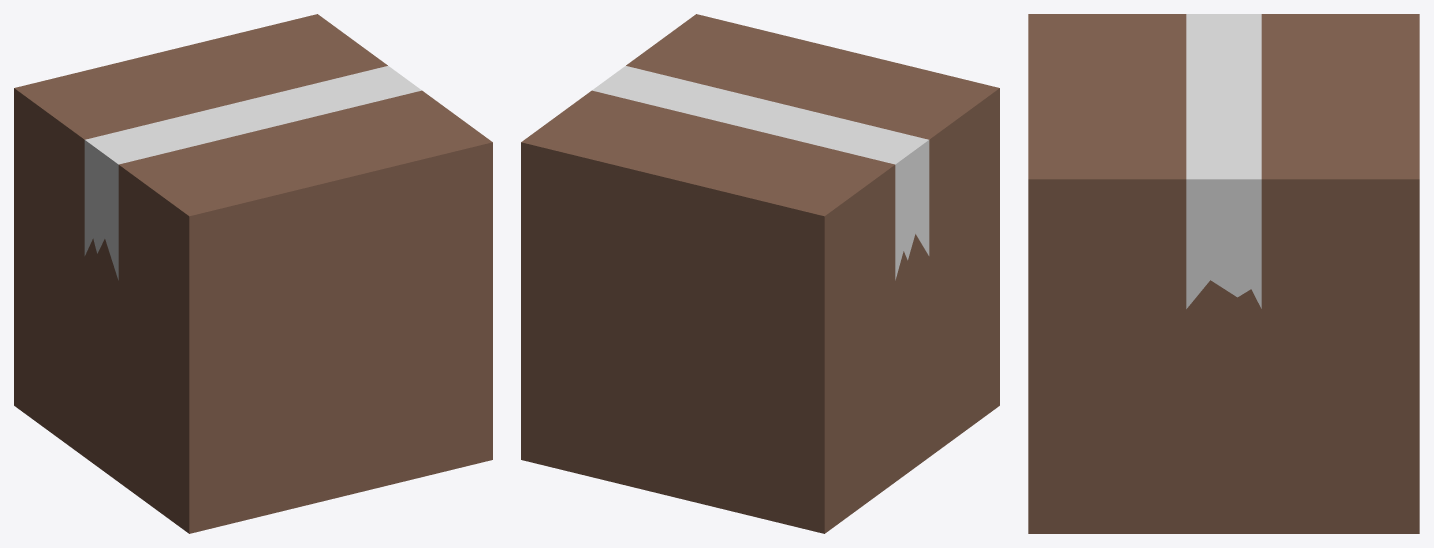
3 renders of one model, left to right at view 1: azimuth 30°, elevation 25°; view 2: azimuth 150°, elevation 25°; view 3: azimuth 270°, elevation 25°, orthographic. The views are drawn at different scales.
Visible parts, largest first — view 1: Cube.002; view 2: Cube.002; view 3: Cube.002.
Part boxes in pixels (x1,y1,x2,y2): Cube.002: [14, 14, 492, 533]; Cube.002: [521, 14, 999, 533]; Cube.002: [1028, 14, 1419, 533].
Bounding box in the file's own units: 87.32 × 87.32 × 87.32.
